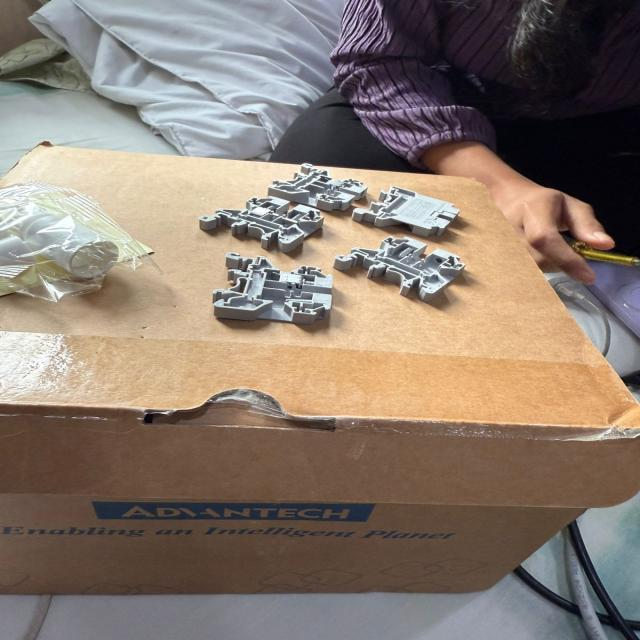Inverted: (348, 184, 464, 236)
Reject: (208, 250, 333, 330), (335, 230, 468, 304), (198, 194, 325, 252), (268, 160, 370, 208)
